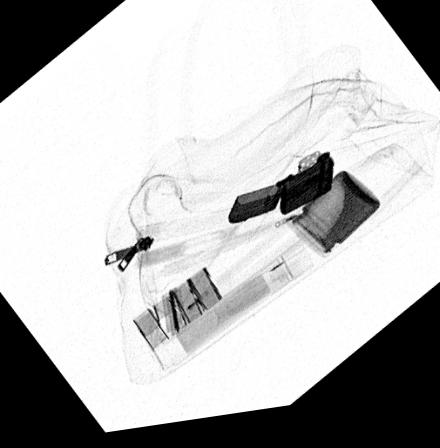Lighter: (226, 159, 334, 231)
